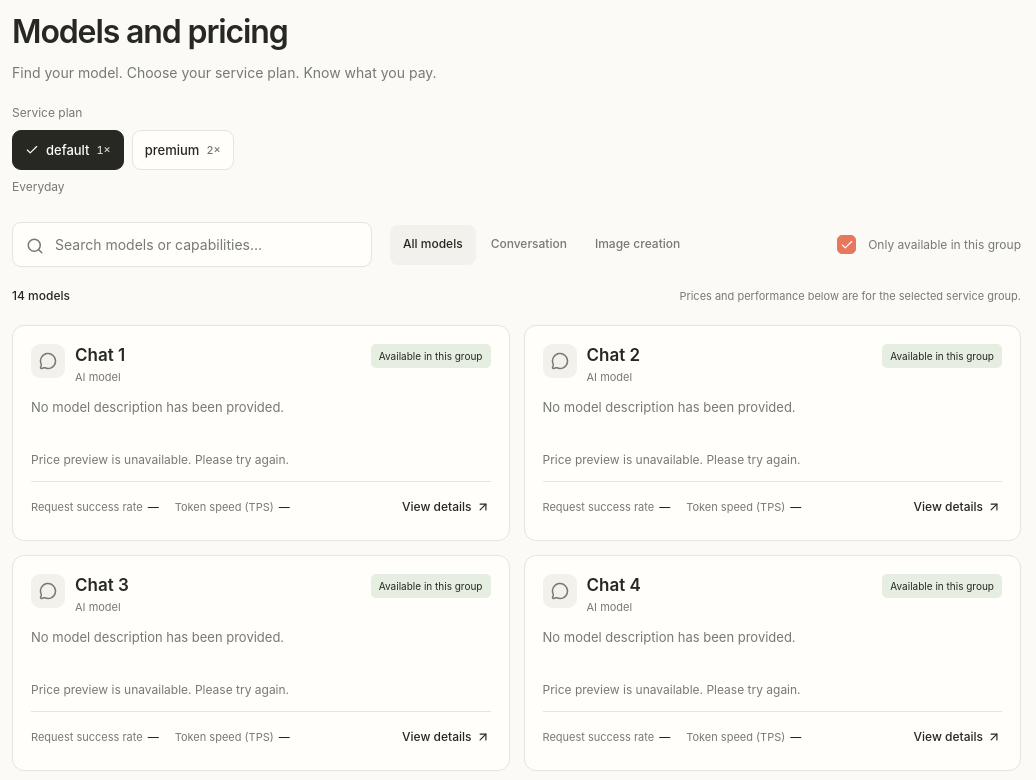
Test: finds model capabilities and ignores whitespace around a pasted search
Expected: the heading "Chat 1" is shown, [75,344,125,366]
Type "  illustration  " into the search field labelled "Search models". click: (192, 244)
box: [12,222,372,267]
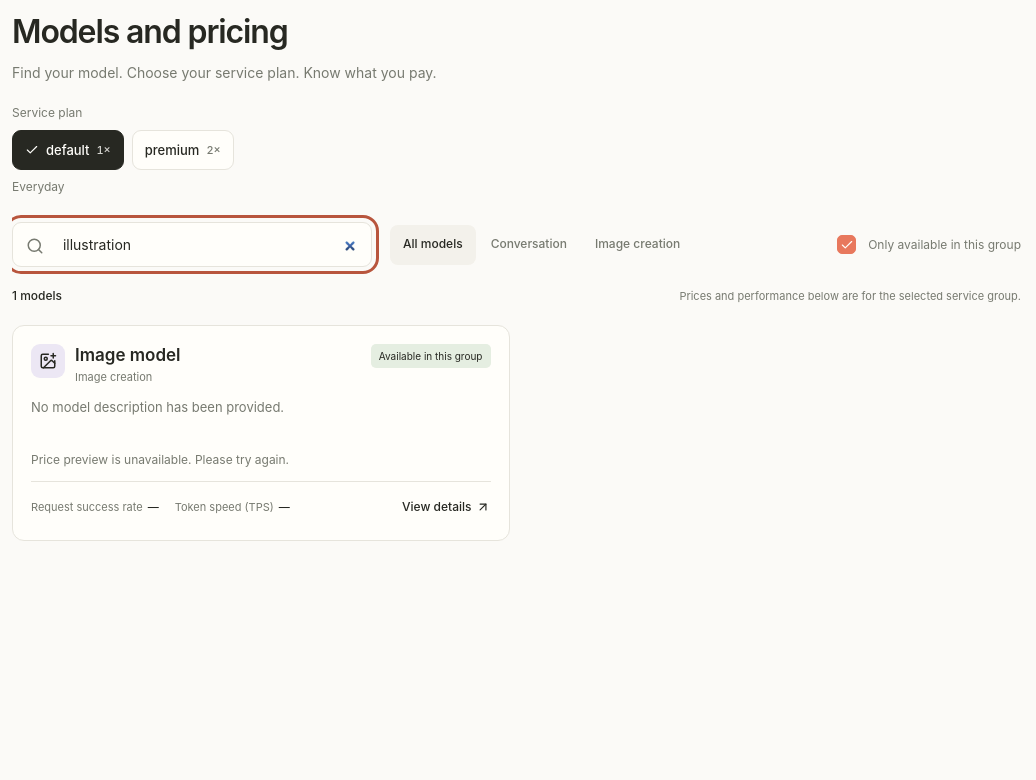
Expected: the heading "Image model" is shown, [75,344,180,366]
Expected: the button "Chat 1" is gone
